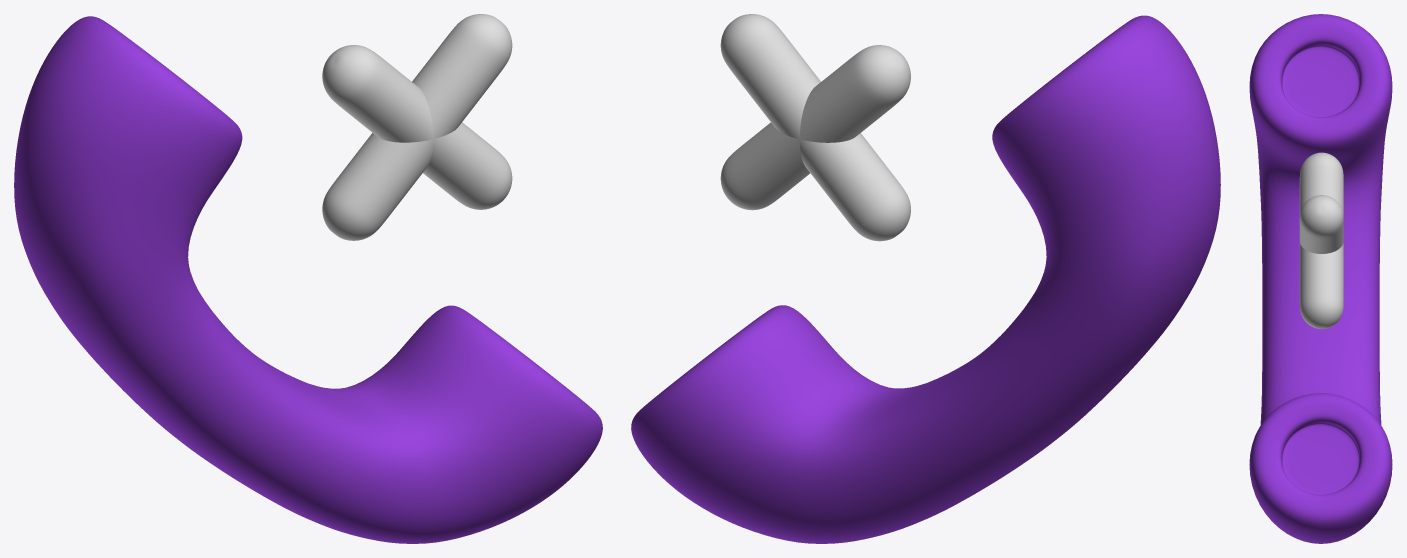
Rendered from call-end.fbx.
3 renders of one model, left to right at view 1: azimuth 30°, elevation 25°; view 2: azimuth 150°, elevation 25°; view 3: azimuth 270°, elevation 25°, orthographic. The views are drawn at different scales.
Visible parts, largest first — view 1: Phone End; view 2: Phone End; view 3: Phone End.
Boxes of the visible parts, box(x1,y1,x2,y2) form: Phone End: box(14, 14, 602, 543); Phone End: box(631, 14, 1220, 543); Phone End: box(1249, 14, 1392, 543).
Bounding box in the file's own units: 177 × 177 × 57.44.
